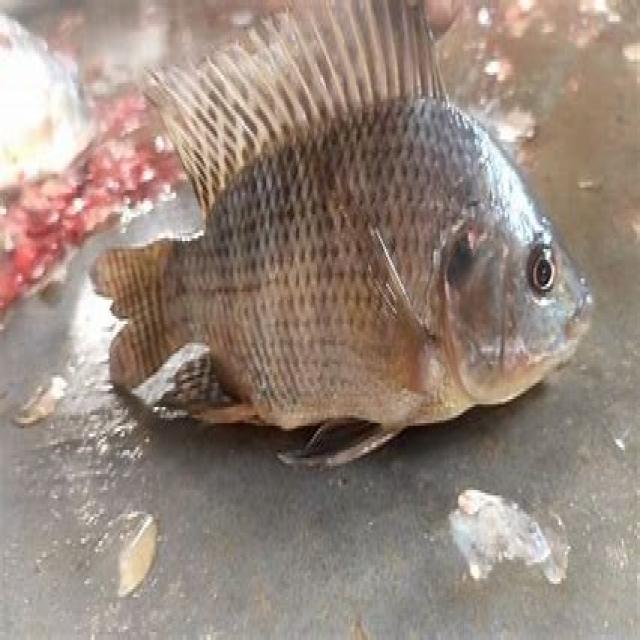Tilapia: (89, 2, 594, 469)
